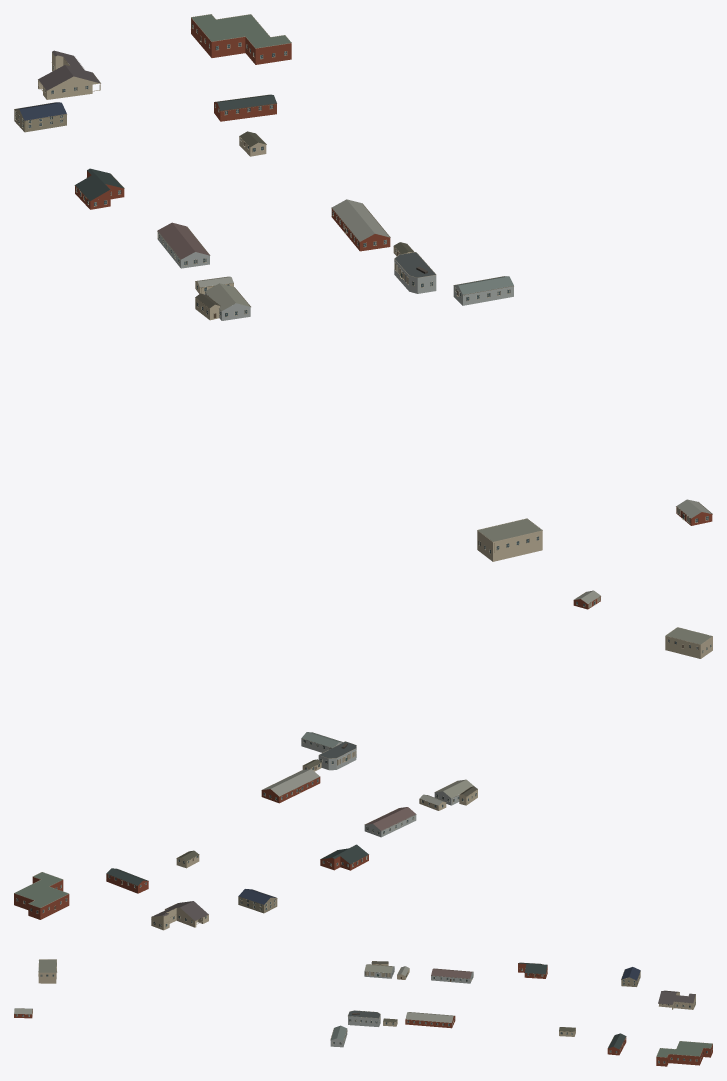
The picture shows the model from 3 angles, top to bottom: view 1: azimuth 30°, elevation 25°; view 2: azimuth 150°, elevation 25°; view 3: azimuth 270°, elevation 25°; orthographic projection. The views are drawn at different scales.
Parts seen in each view (by area): view 1: -1_2_590877178_0, -1_2_599046745_2, -1_2_599046744_1; view 2: -1_2_590877178_0, -1_2_599046745_2, -1_2_599046744_1; view 3: -1_2_590877178_0, -1_2_599046744_1, -1_2_599046745_2.
Part boxes in pixels (bbox=[...]): -1_2_590877178_0: bbox=[14, 14, 712, 553]; -1_2_599046745_2: bbox=[38, 52, 542, 561]; -1_2_599046744_1: bbox=[157, 36, 513, 320]; -1_2_590877178_0: bbox=[14, 590, 712, 927]; -1_2_599046745_2: bbox=[151, 636, 712, 930]; -1_2_599046744_1: bbox=[54, 645, 683, 909]; -1_2_590877178_0: bbox=[14, 959, 712, 1066]; -1_2_599046744_1: bbox=[330, 966, 629, 1047]; -1_2_599046745_2: bbox=[38, 962, 695, 1036].
Size of the model in its own units: 178 by 21.04 by 537.
